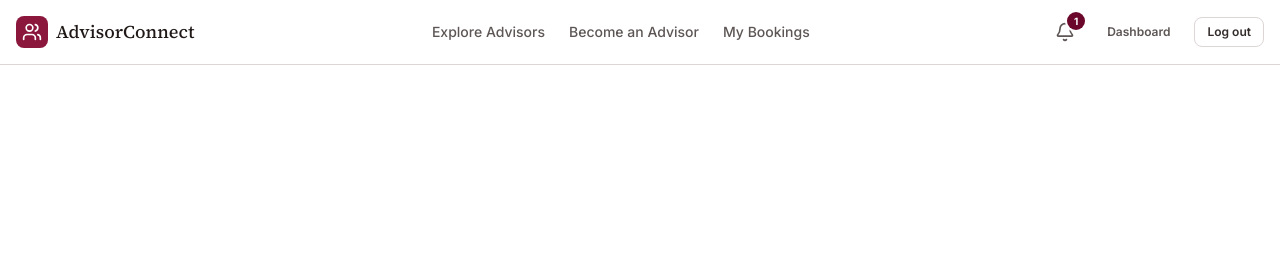
Test: Navbar › notifications bell › lists the notifications when opened
The width and height of the screenshot is (1280, 278).
Click the button named "notifications" at (1065, 32), box [1047,14,1083,50]
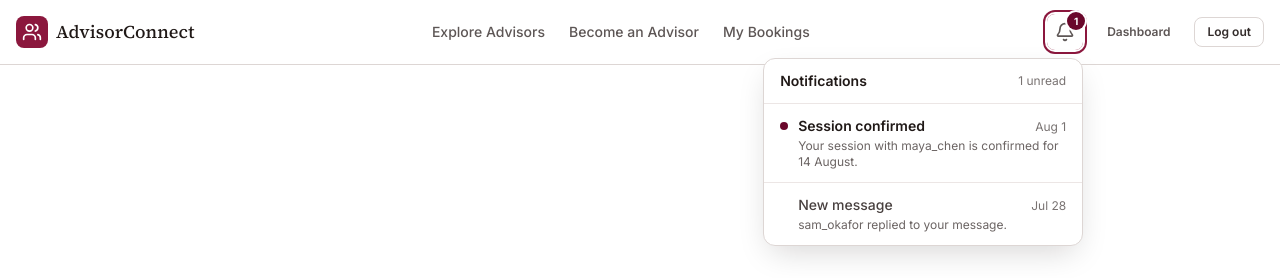
Check: the text "Session confirmed" is shown, box [798,116,925,136]
Check: the text "Your session with maya_chen is confirmed for 14 August." is shown, box [798,138,1066,170]
Check: the text "New message" is shown, box [798,195,893,215]
